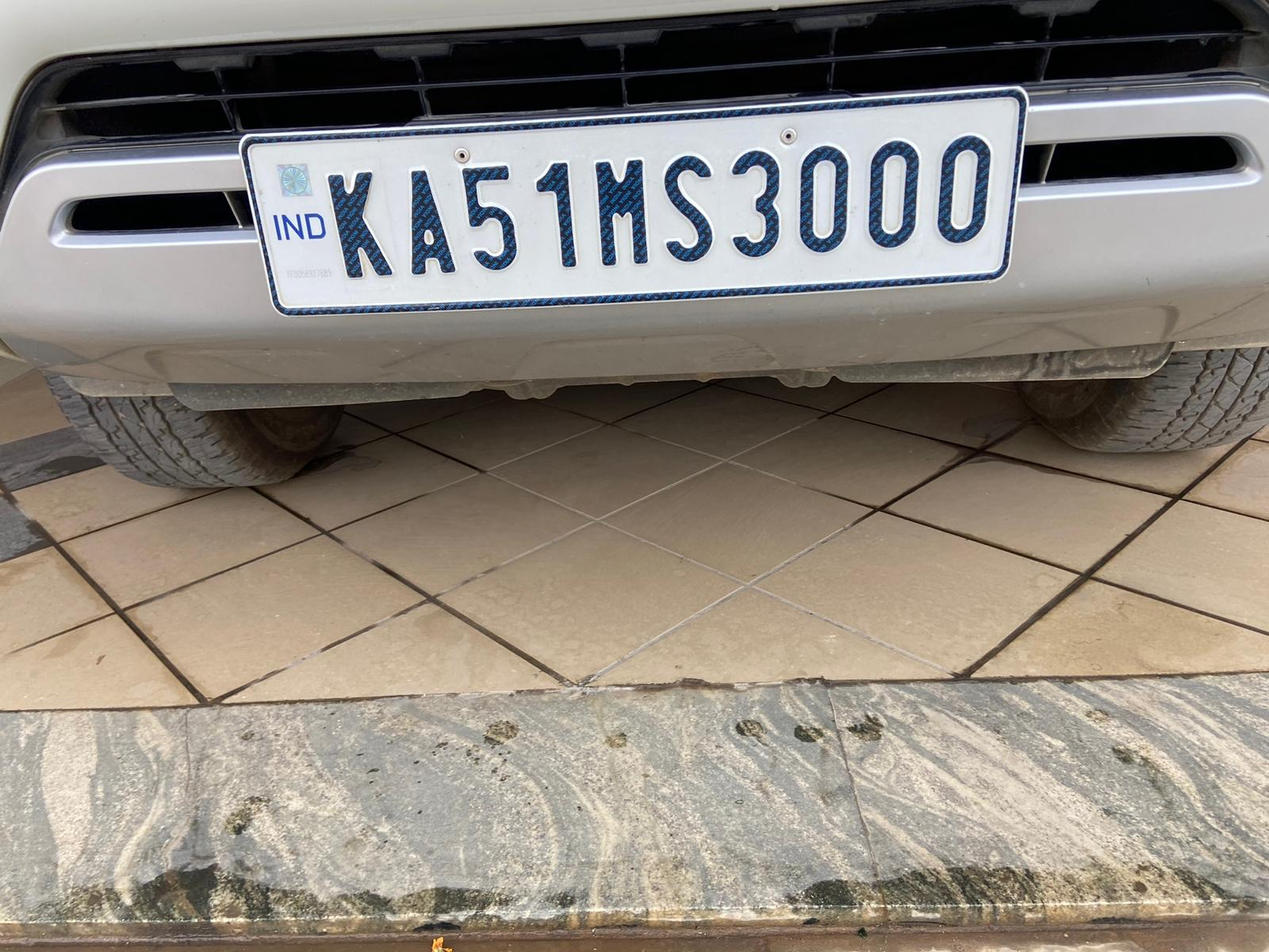0: (932, 123, 1005, 248), (863, 133, 927, 252), (796, 145, 856, 260)
1: (528, 157, 585, 281)
3: (720, 141, 794, 278)
5: (456, 157, 528, 278)
A: (395, 157, 458, 298)
K: (322, 157, 394, 291)
M: (585, 151, 655, 289)
S: (659, 147, 718, 279)
